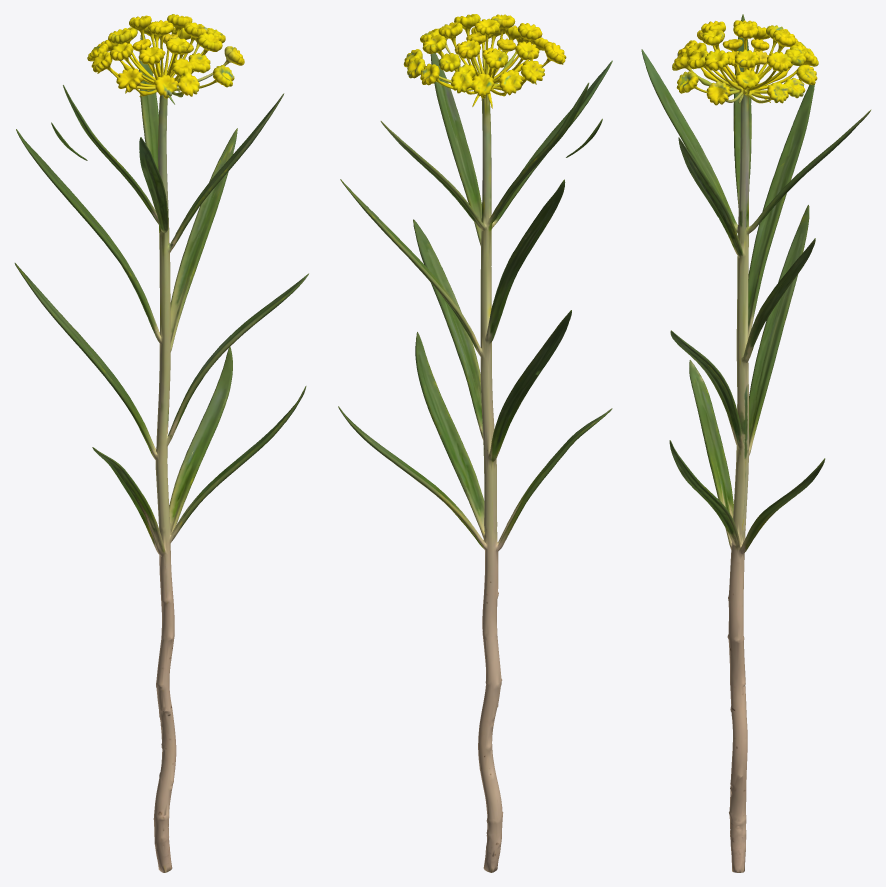
File: chaihu.glb
3 views of the same model, side by side, from view 1: azimuth 30°, elevation 25°; view 2: azimuth 150°, elevation 25°; view 3: azimuth 270°, elevation 25° (orthographic).
Visible parts, largest first — view 1: node_0; view 2: node_0; view 3: node_0.
Boxes of the visible parts, left/top/right/bottom form: node_0: left=14, top=14, right=308, bottom=872; node_0: left=338, top=14, right=612, bottom=872; node_0: left=641, top=14, right=871, bottom=872.
Bounding box in the file's own units: 0.336 × 1.2 × 0.2948.
1 material, 1 textured.
